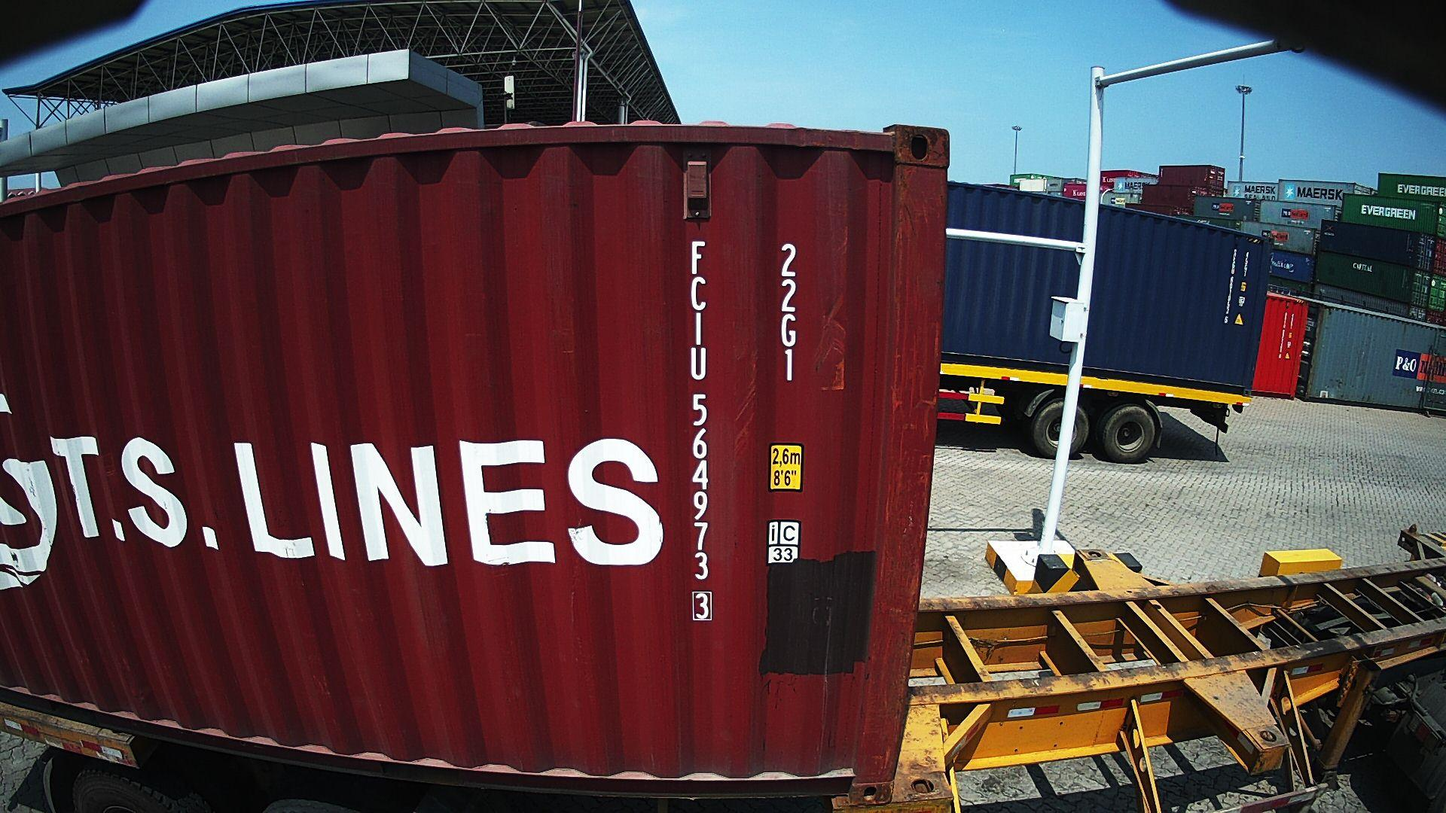container-numbers: (682, 238, 714, 628), (773, 240, 803, 389)
